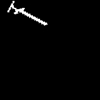double_crochet: (8, 1, 46, 24)
